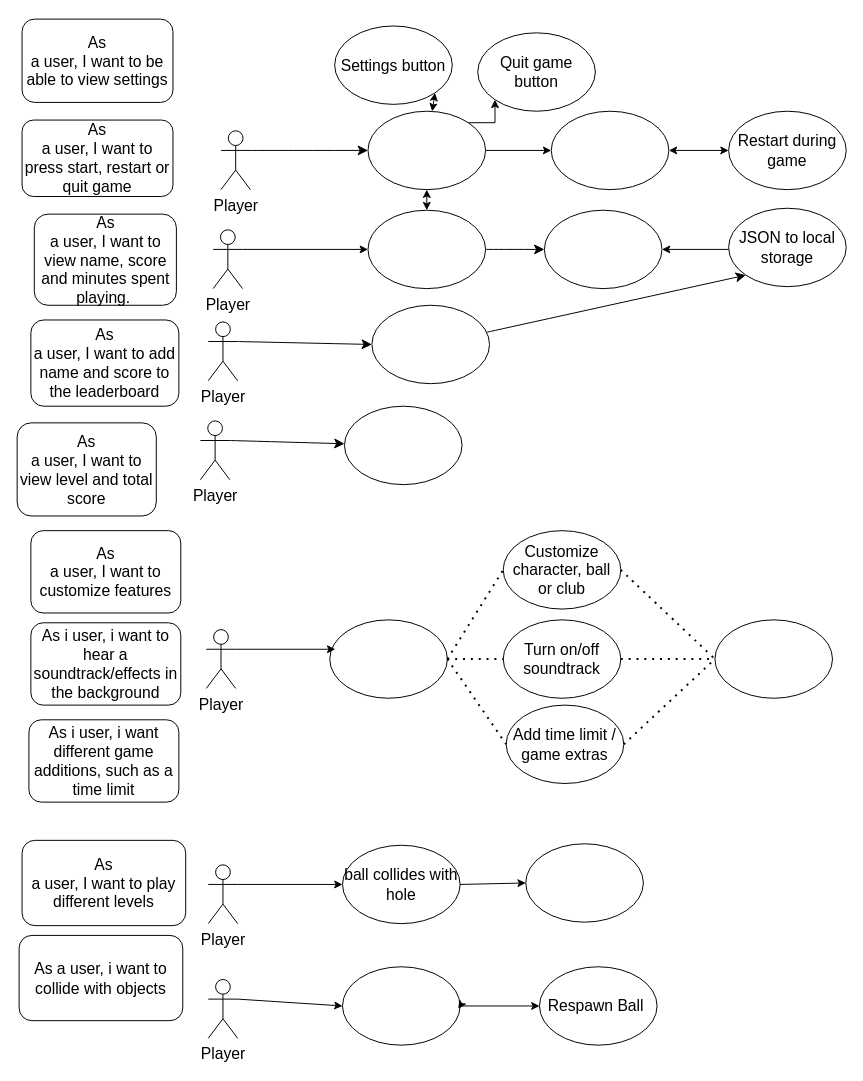
Image size: 863x1081. Some labels were removed from this diagram. Here are the shapes that lost their labels. From the top down, the centre of each, then its label:
At point (426, 150): "Home menu".
At point (609, 150): "Start Game".
At point (426, 249): "Open Leaderboard".
At point (602, 249): "View stats (name, score, mins playing)".
At point (430, 344): "Input name and save".
At point (402, 445): "View on top of game page".
At point (388, 658): "Settings".
At point (773, 658): "Save details".
At point (584, 882): "Next Level begins".
At point (401, 1005): "ball collides with obstacle".
